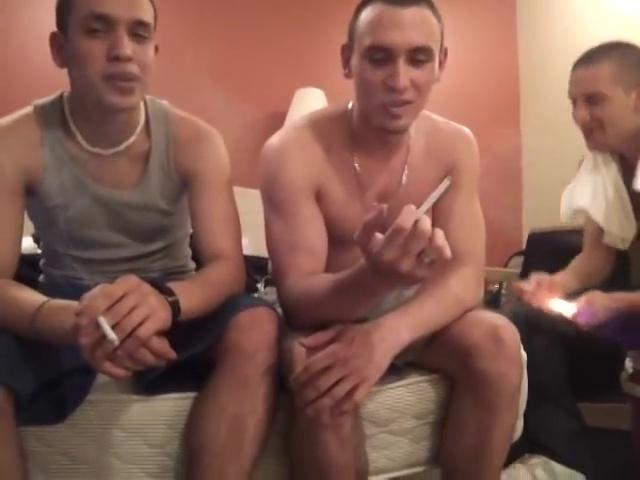cigarette: (417, 175, 453, 221), (94, 314, 122, 350)
